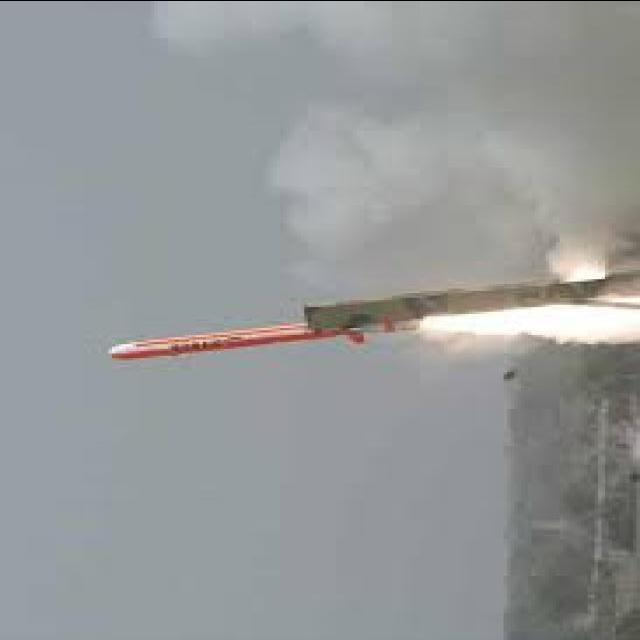missile: (105, 317, 423, 367)
